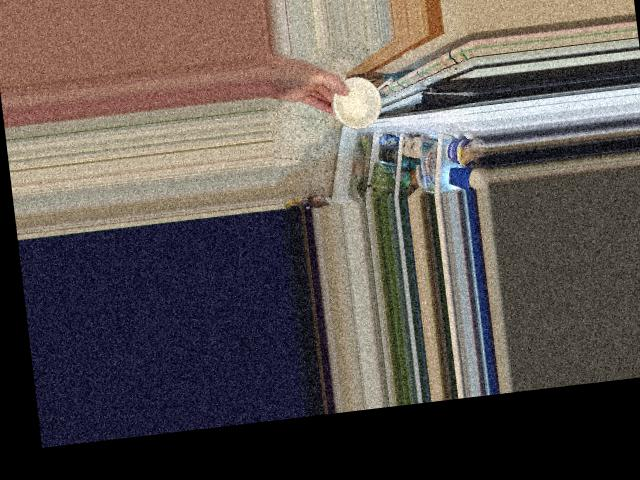cotage: (328, 78, 386, 131)
